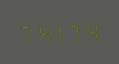four: (34, 20, 49, 44), (82, 19, 97, 42)
one: (50, 20, 65, 43)
seven: (66, 19, 81, 43), (18, 21, 33, 44)
